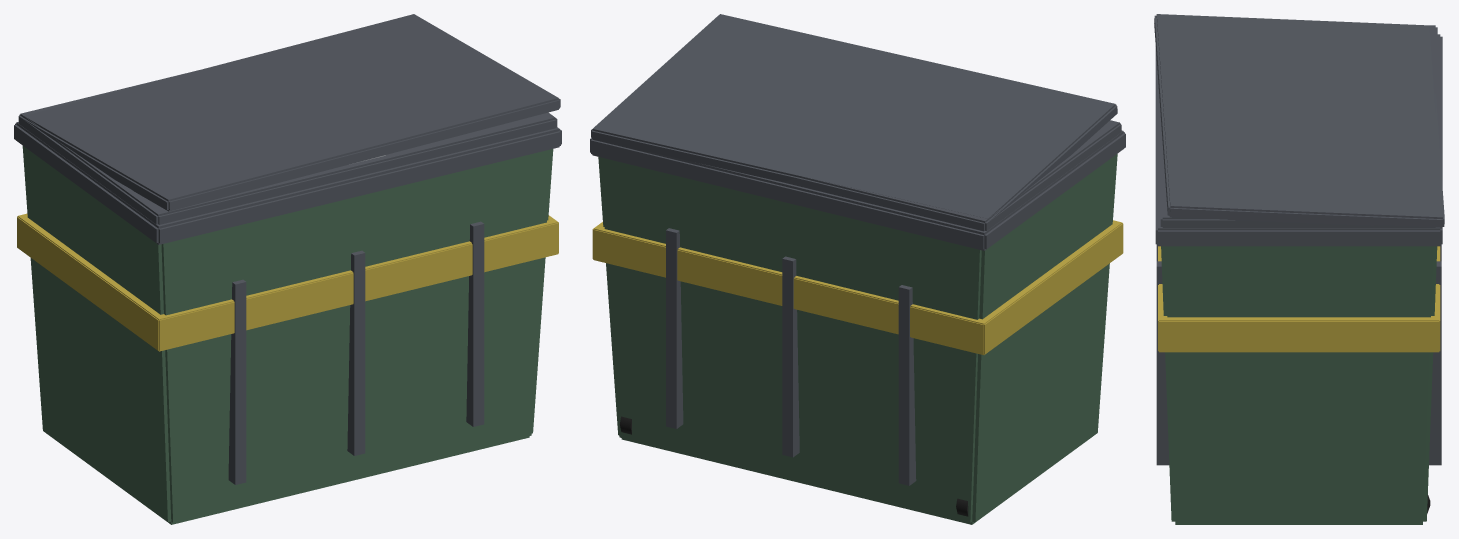
File: bin_step_l.glb
3 views of the same model, side by side, from view 1: azimuth 30°, elevation 25°; view 2: azimuth 150°, elevation 25°; view 3: azimuth 270°, elevation 25° (orthographic). The views are drawn at different scales.
Parts seen in each view (by area): view 1: body.001, lid_plate.001, yellow_stripe.001, rim.001, lid_plate.002, rib.002, rib.001, rib; view 2: body.001, lid_plate.001, yellow_stripe.001, rim.001, lid_plate.002, rib, rib.001, rib.002; view 3: body.001, lid_plate.001, yellow_stripe.001, rim.001, rib.002, lid_plate.002.
Boxes of the visible parts, <box> form: body.001: <box>22,146,553,524</box>; lid_plate.001: <box>22,14,560,211</box>; yellow_stripe.001: <box>17,213,558,351</box>; rim.001: <box>14,122,561,244</box>; lid_plate.002: <box>18,71,557,224</box>; rib.002: <box>466,221,484,426</box>; rib.001: <box>347,250,365,455</box>; rib: <box>228,279,246,484</box>; body.001: <box>598,154,1117,524</box>; lid_plate.001: <box>591,14,1117,220</box>; yellow_stripe.001: <box>592,220,1123,355</box>; rim.001: <box>590,130,1125,250</box>; lid_plate.002: <box>782,120,1121,231</box>; rib: <box>898,285,916,485</box>; rib.001: <box>782,256,799,457</box>; rib.002: <box>666,228,683,428</box>; body.001: <box>1161,246,1437,524</box>; lid_plate.001: <box>1154,14,1444,228</box>; yellow_stripe.001: <box>1158,246,1440,352</box>; rim.001: <box>1155,34,1442,246</box>; rib.002: <box>1156,261,1441,465</box>; lid_plate.002: <box>1160,25,1437,227</box>.
Size of what is drawn, in the model's own units: 1.86 by 1.45 by 1.15.
